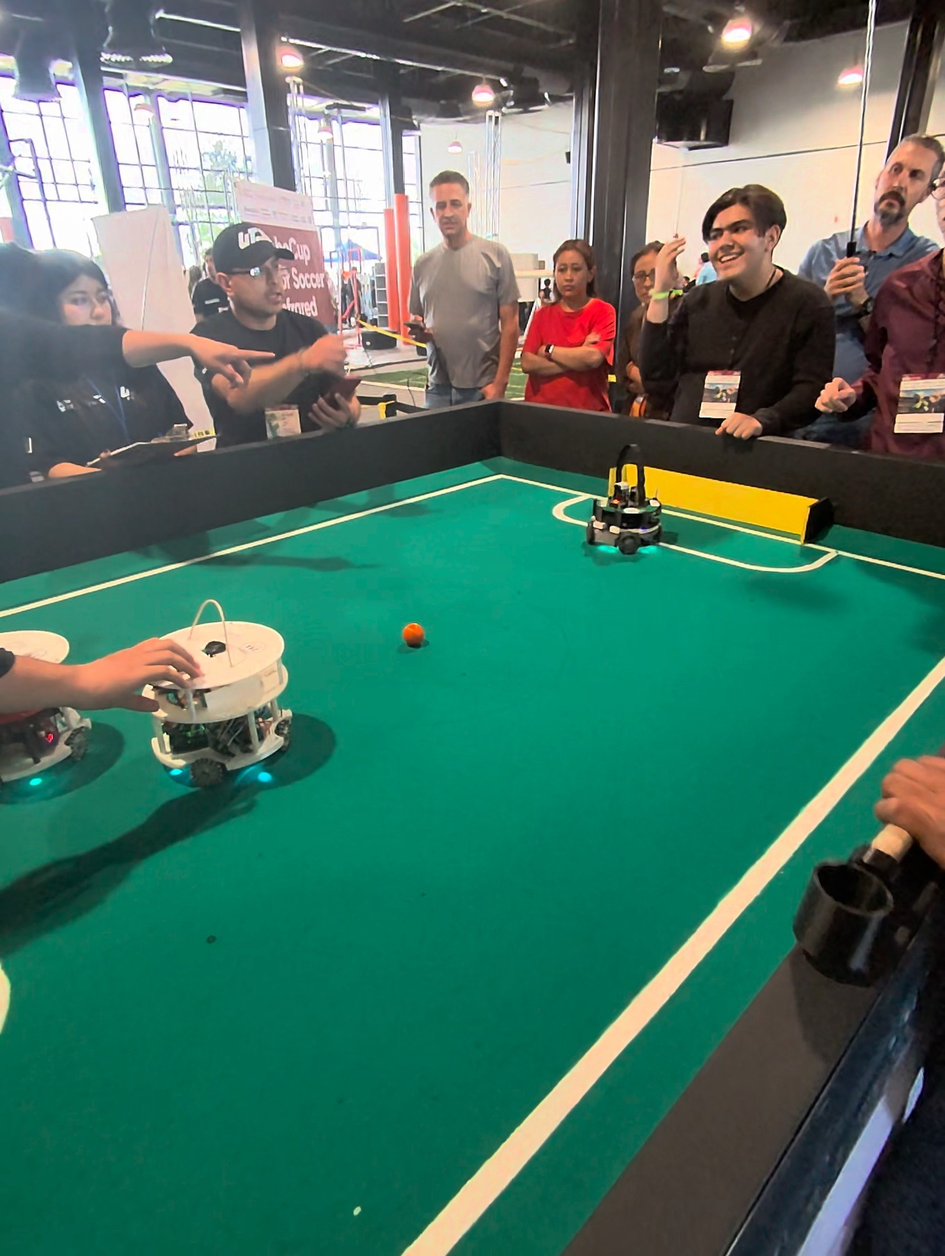Robot: (150, 592, 303, 790), (0, 615, 111, 802), (583, 436, 666, 561)
pelota: (359, 626, 454, 677)
